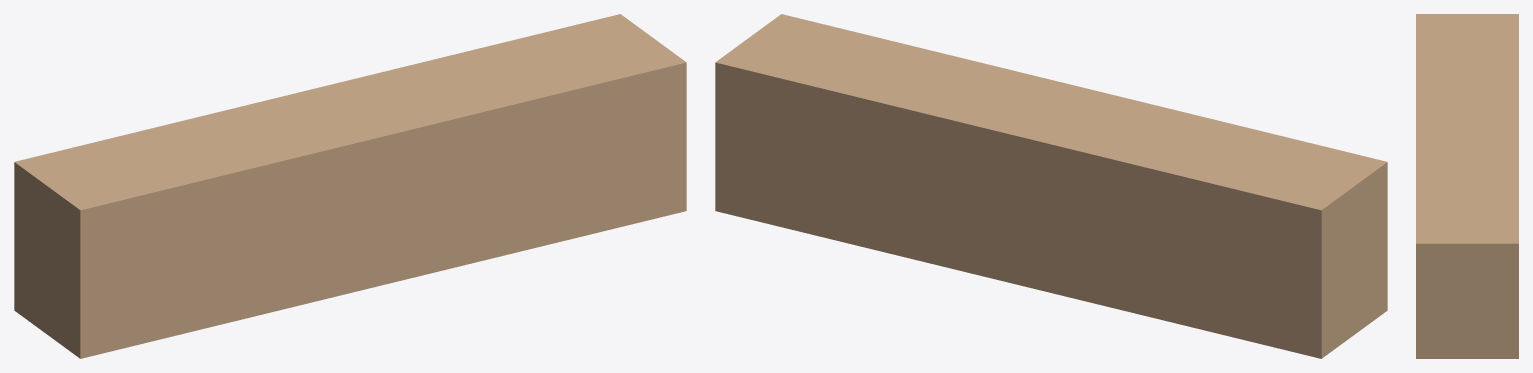
The model's file is media_console_08.glb.
3 views of the same model, side by side, from view 1: azimuth 30°, elevation 25°; view 2: azimuth 150°, elevation 25°; view 3: azimuth 270°, elevation 25° (orthographic). The views are drawn at different scales.
Bounding box in the file's own units: 2.22 × 0.52 × 0.42.
